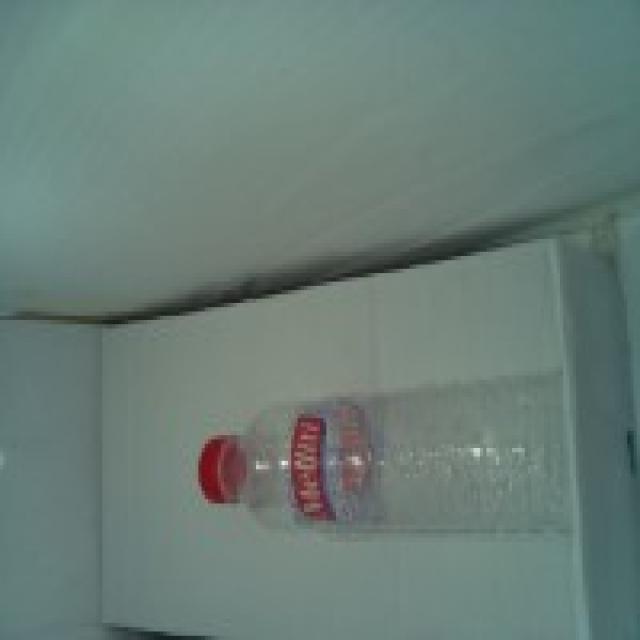plastic_bottle: (198, 374, 573, 538)
